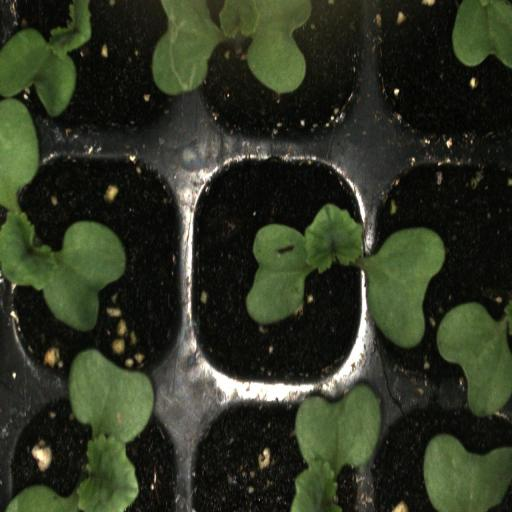Folha: (436, 302, 512, 417), (452, 0, 512, 69)
Germinacao: (188, 149, 368, 392), (7, 145, 187, 388), (190, 0, 369, 149), (9, 0, 189, 148), (6, 389, 188, 512), (189, 392, 368, 512)
